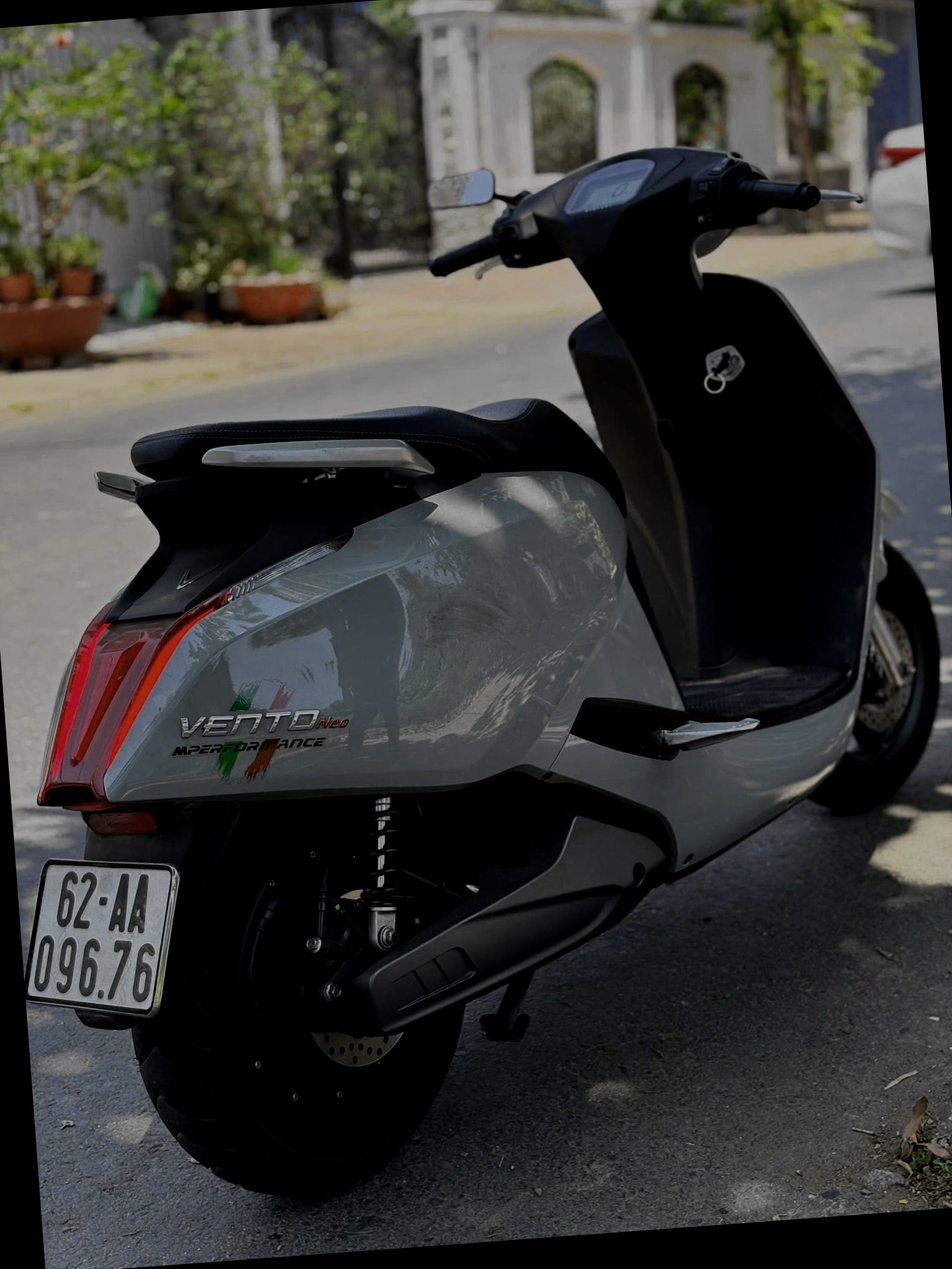Bien-so: (21, 856, 191, 1024)
